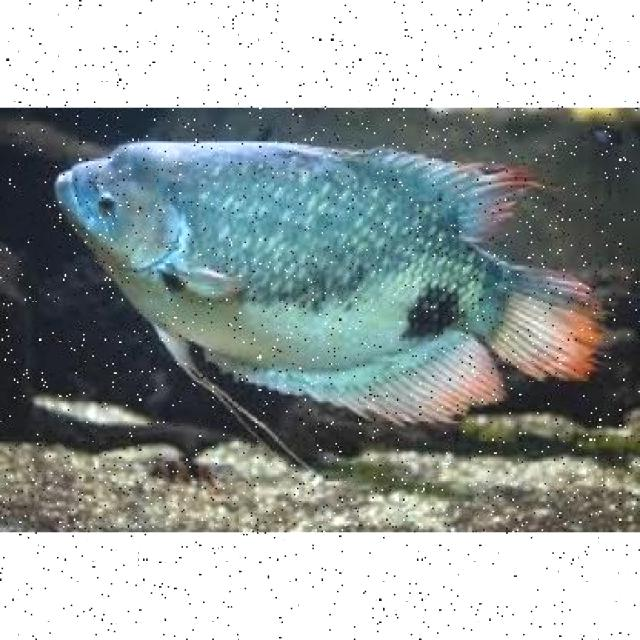gurame: (51, 143, 580, 411)
